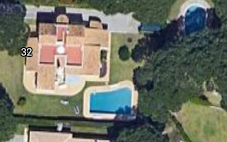pool: (89, 93, 136, 112)
